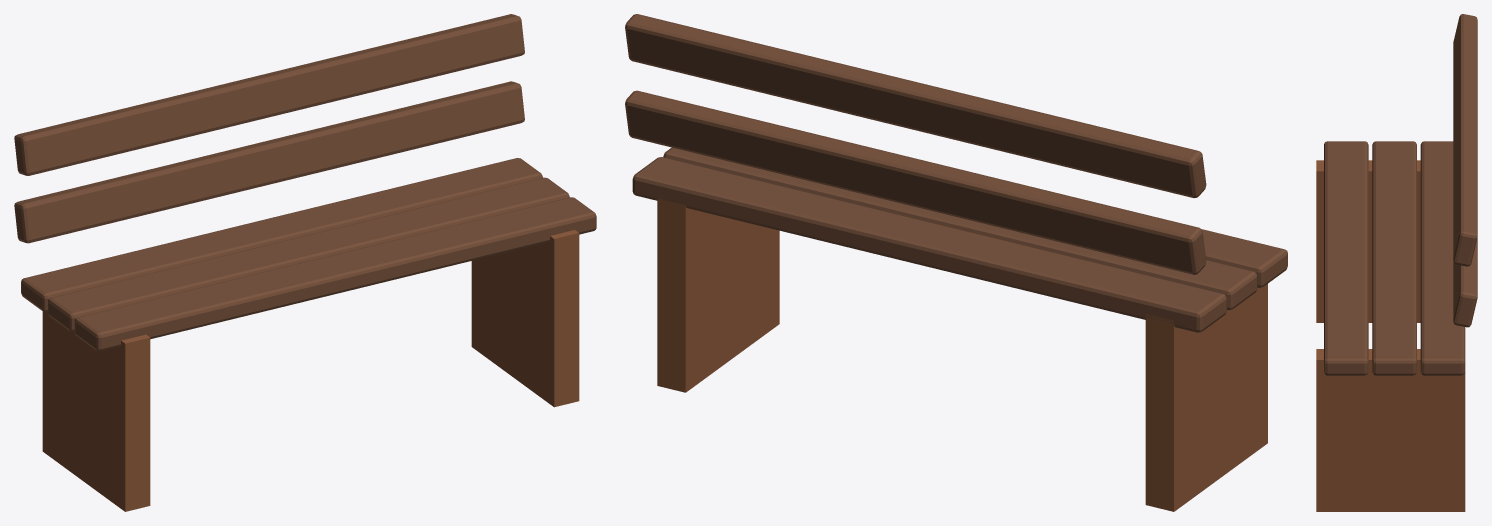
File: bench.glb
3 renders of one model, left to right at view 1: azimuth 30°, elevation 25°; view 2: azimuth 150°, elevation 25°; view 3: azimuth 270°, elevation 25°, orthographic. The views are drawn at different scales.
Visible parts, largest first — view 1: bench; view 2: bench; view 3: bench.
Boxes of the visible parts, left/top/right/bottom form: bench: left=14, top=14, right=596, bottom=511; bench: left=625, top=14, right=1287, bottom=511; bench: left=1316, top=14, right=1477, bottom=511.
Size of the model in its own units: 1.4 by 0.857 by 0.4328.
